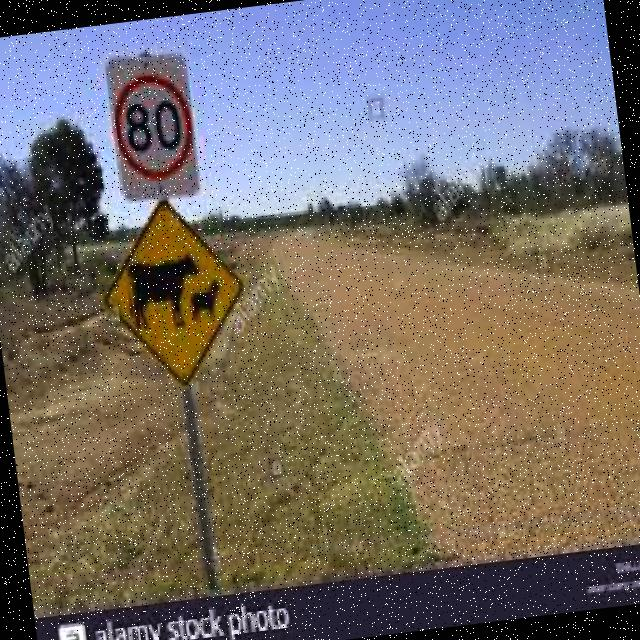Ograniczenie predkosci do 80: (109, 70, 199, 182)
